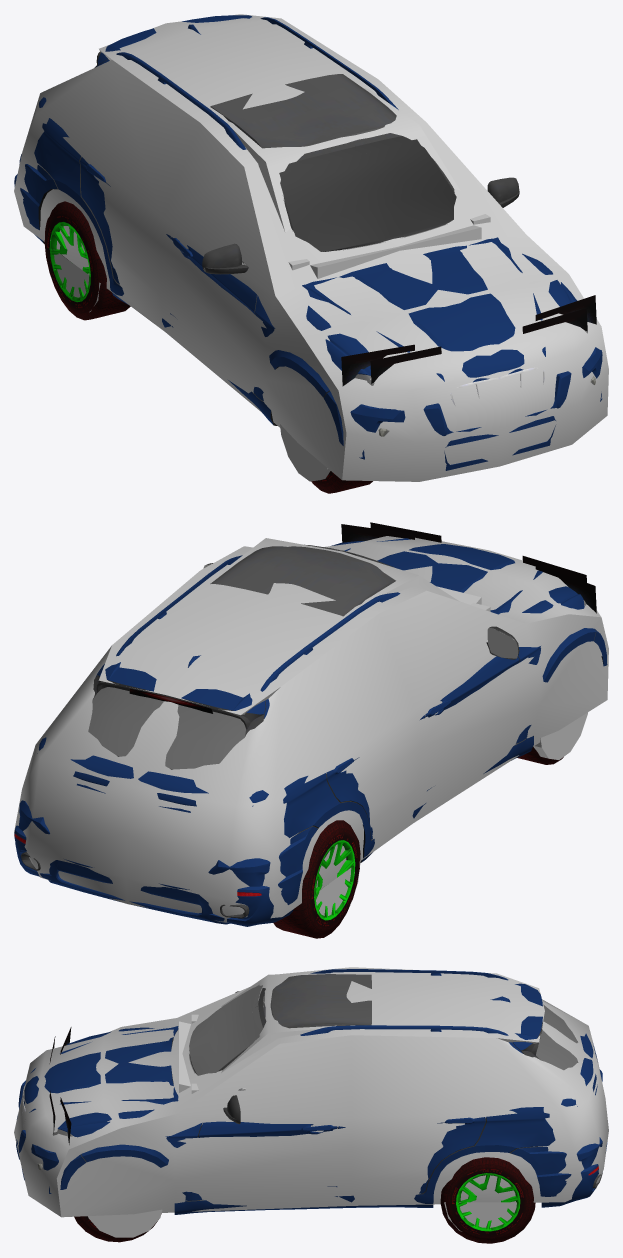
File: P_car-016_PorFive.fbx
3 views of the same model, one above another, from view 1: azimuth 30°, elevation 25°; view 2: azimuth 150°, elevation 25°; view 3: azimuth 270°, elevation 25° (orthographic). The views are drawn at different scales.
Parts seen in each view (by area): view 1: M_Car-016_ShadowForm_PorFive_01, M_Car-016_Body_PorFive_01, M_Car-Interior_Glass_01, M_Car-Interior_Details_01, M_Car-Interior_Shadowform_01, M_Car-016_FrontFlares_PorFive_01, M_Car-016_Details_PorFive_01, M_CarWheel-001_AP (1), M_CarWheel-001_AP_01 (1), M_CarTire-001_AP_01 (1); view 2: M_Car-016_ShadowForm_PorFive_01, M_Car-016_Body_PorFive_01, M_Car-Interior_Details_01, M_Car-016_Glass_PorFive_01, M_CarWheel-001_AP_01 (1), M_Car-016_FrontFlares_PorFive_01, M_Car-Interior_Shadowform_01, M_Car-016_Details_PorFive_01, M_CarWheel-001_AP (1), M_CarTire-001_AP (1); view 3: M_Car-016_ShadowForm_PorFive_01, M_Car-016_Body_PorFive_01, M_Car-Interior_Details_01, M_Car-Interior_Glass_01, M_Car-Interior_Shadowform_01, M_CarWheel-001_AP_01 (1) (×2), M_CarWheel-001_AP (1), M_Car-016_Glass_PorFive_01, M_Car-016_Details_PorFive_01, M_CarTire-001_AP_01 (1), M_CarTire-001_AP (1), M_Car-016_FrontFlares_PorFive_01.
Boxes of the visible parts, x1=… form: M_Car-016_ShadowForm_PorFive_01: x1=14, y1=14, x2=608, y2=481; M_Car-016_Body_PorFive_01: x1=14, y1=15, x2=602, y2=470; M_Car-Interior_Glass_01: x1=279, y1=136, x2=456, y2=251; M_Car-Interior_Details_01: x1=210, y1=74, x2=454, y2=251; M_Car-Interior_Shadowform_01: x1=226, y1=88, x2=490, y2=278; M_Car-016_FrontFlares_PorFive_01: x1=341, y1=295, x2=596, y2=386; M_Car-016_Details_PorFive_01: x1=38, y1=51, x2=595, y2=436; M_CarWheel-001_AP (1): x1=71, y1=211, x2=130, y2=320; M_CarWheel-001_AP_01 (1): x1=44, y1=201, x2=80, y2=316; M_CarTire-001_AP_01 (1): x1=49, y1=222, x2=74, y2=299; M_Car-016_ShadowForm_PorFive_01: x1=14, y1=536, x2=608, y2=922; M_Car-016_Body_PorFive_01: x1=14, y1=538, x2=607, y2=926; M_Car-Interior_Details_01: x1=210, y1=544, x2=395, y2=616; M_Car-016_Glass_PorFive_01: x1=88, y1=600, x2=586, y2=769; M_CarWheel-001_AP_01 (1): x1=273, y1=821, x2=339, y2=938; M_Car-016_FrontFlares_PorFive_01: x1=341, y1=522, x2=596, y2=613; M_Car-Interior_Shadowform_01: x1=226, y1=538, x2=490, y2=611; M_Car-016_Details_PorFive_01: x1=14, y1=563, x2=603, y2=918; M_CarWheel-001_AP (1): x1=332, y1=820, x2=360, y2=931; M_CarTire-001_AP (1): x1=331, y1=840, x2=355, y2=916; M_Car-016_ShadowForm_PorFive_01: x1=14, y1=967, x2=608, y2=1237; M_Car-016_Body_PorFive_01: x1=16, y1=969, x2=607, y2=1214; M_Car-Interior_Details_01: x1=189, y1=974, x2=371, y2=1090; M_Car-Interior_Glass_01: x1=189, y1=985, x2=262, y2=1075; M_Car-Interior_Shadowform_01: x1=179, y1=973, x2=340, y2=1093; M_CarWheel-001_AP_01 (1) (×2): x1=74, y1=1157, x2=497, y2=1243; M_CarWheel-001_AP (1): x1=490, y1=1158, x2=535, y2=1243; M_Car-016_Glass_PorFive_01: x1=52, y1=1004, x2=577, y2=1136; M_Car-016_Details_PorFive_01: x1=21, y1=991, x2=602, y2=1201; M_CarTire-001_AP_01 (1): x1=456, y1=1173, x2=494, y2=1231; M_CarTire-001_AP (1): x1=486, y1=1174, x2=520, y2=1231; M_Car-016_FrontFlares_PorFive_01: x1=49, y1=1027, x2=71, y2=1144.
Bounding box in the file's own units: 2.28 × 1.76 × 4.75.
